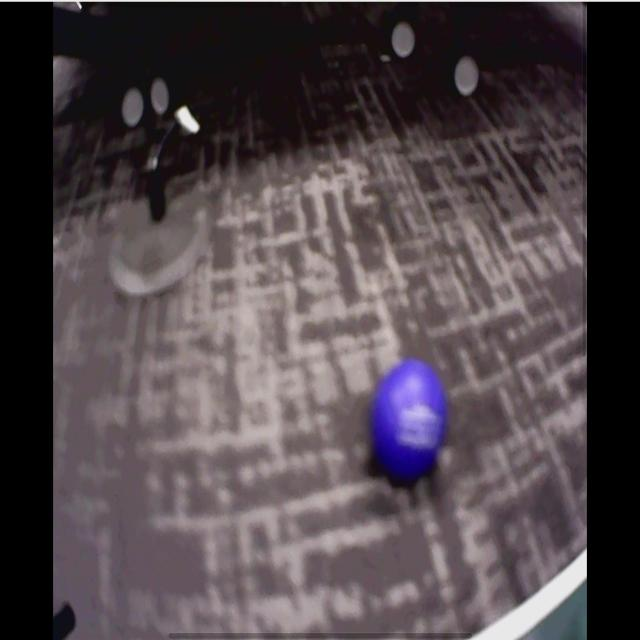ball: (375, 359, 447, 471)
